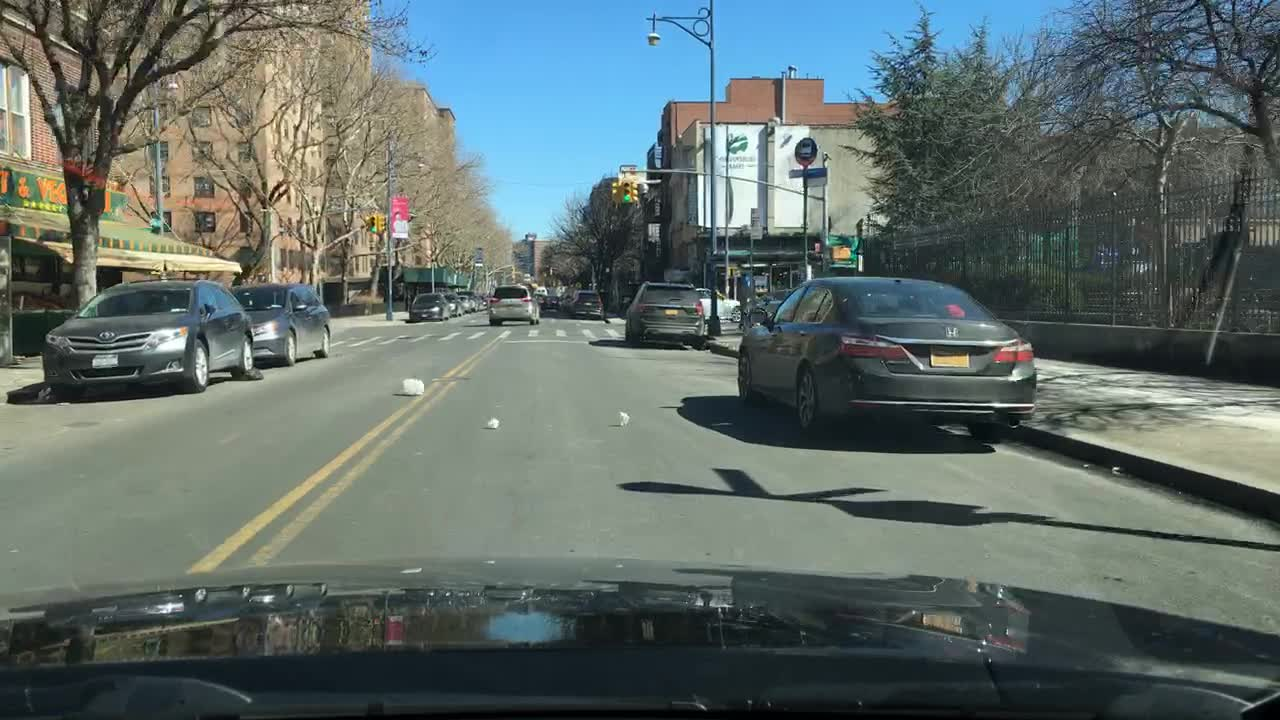car: (737, 273, 1038, 447), (39, 275, 257, 396), (229, 281, 336, 369), (622, 283, 708, 346), (741, 286, 792, 331), (487, 283, 540, 326), (691, 285, 743, 325), (567, 288, 607, 321), (406, 291, 449, 320), (457, 290, 485, 311), (445, 291, 465, 316), (545, 293, 563, 313), (459, 296, 476, 313), (557, 294, 572, 311), (476, 293, 487, 309), (536, 290, 545, 308), (535, 284, 546, 293)
traffic light: (833, 248, 854, 259), (608, 182, 618, 203), (622, 182, 631, 205), (370, 215, 378, 235), (633, 182, 640, 204), (379, 214, 384, 237)
traffic sign: (793, 137, 817, 167), (827, 233, 857, 247), (807, 168, 828, 188), (788, 168, 804, 178), (752, 225, 762, 239)
